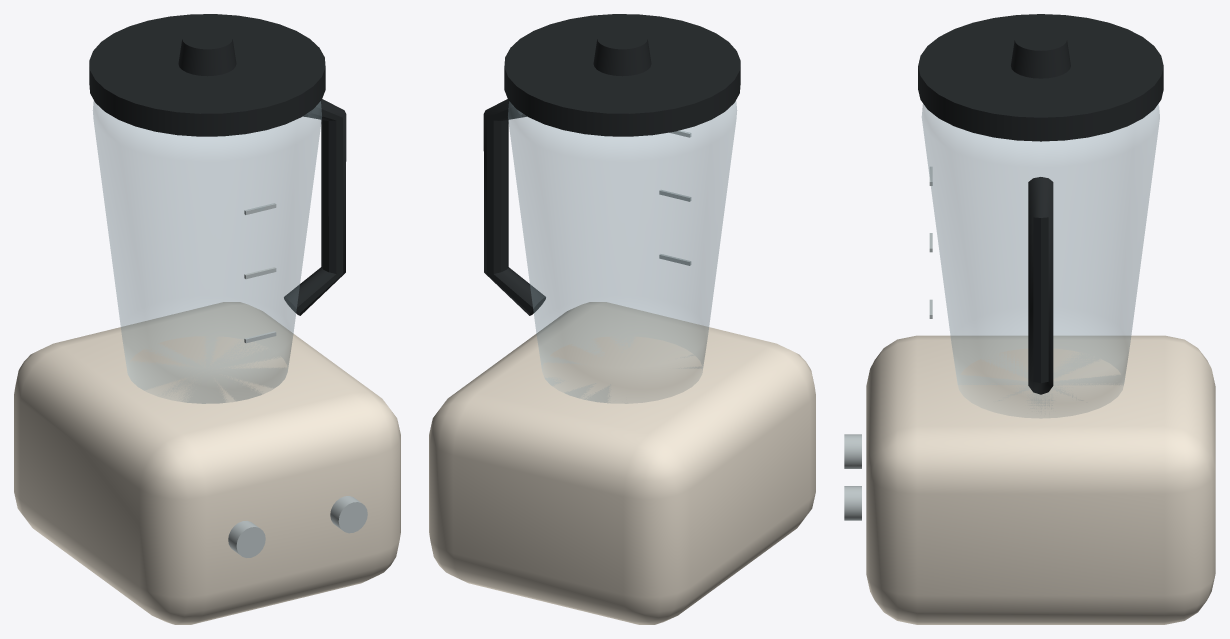
Rendered from batidora_vaso_base.glb.
The picture shows the model from 3 angles, left to right: view 1: azimuth 30°, elevation 25°; view 2: azimuth 150°, elevation 25°; view 3: azimuth 270°, elevation 25°; orthographic projection. The views are drawn at different scales.
Visible parts, largest first — view 1: batidora_vaso_base; view 2: batidora_vaso_base; view 3: batidora_vaso_base.
Boxes of the visible parts, x1=… form: batidora_vaso_base: x1=14, y1=14, x2=400, y2=624; batidora_vaso_base: x1=429, y1=14, x2=815, y2=624; batidora_vaso_base: x1=844, y1=14, x2=1215, y2=624.
Size of the model in its own units: 0.2178 by 0.4074 by 0.255.
